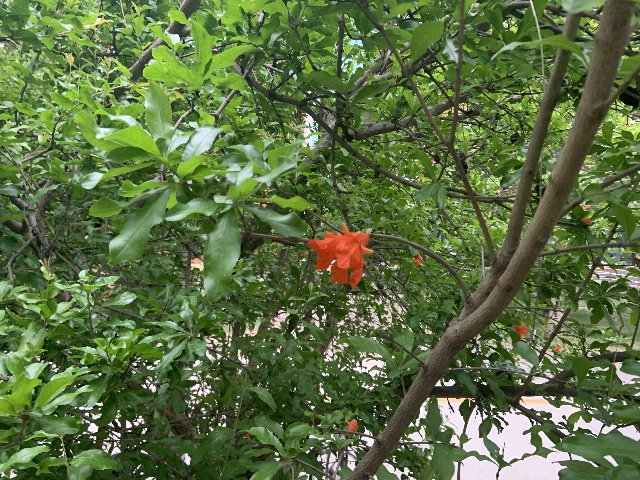bud: (346, 418, 357, 433)
flower: (306, 222, 373, 286), (513, 325, 527, 339), (413, 253, 423, 266)
